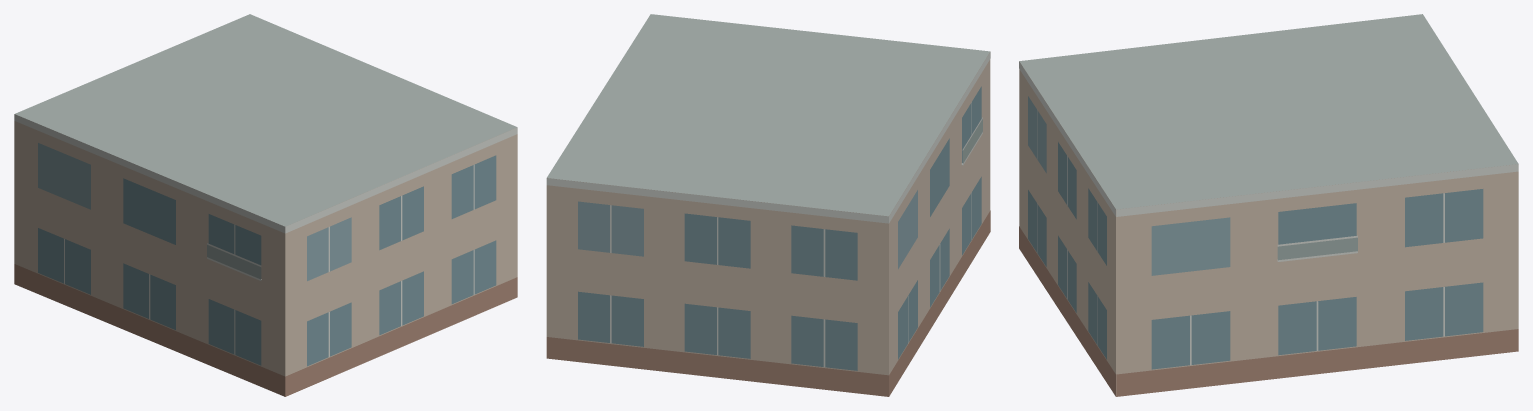
The model's file is survey-upis-32687693.glb.
The picture shows the model from 3 angles, left to right: view 1: azimuth 30°, elevation 25°; view 2: azimuth 150°, elevation 25°; view 3: azimuth 270°, elevation 25°; orthographic projection. The views are drawn at different scales.
Parts seen in each view (by area): view 1: survey-upis-32687693.tmp; view 2: survey-upis-32687693.tmp; view 3: survey-upis-32687693.tmp.
Part boxes in pixels (<box>): survey-upis-32687693.tmp: <box>14,14,517,396</box>; survey-upis-32687693.tmp: <box>546,14,990,396</box>; survey-upis-32687693.tmp: <box>1019,14,1518,396</box>.
Size of the model in its own units: 13.66 by 6.1 by 14.75.
